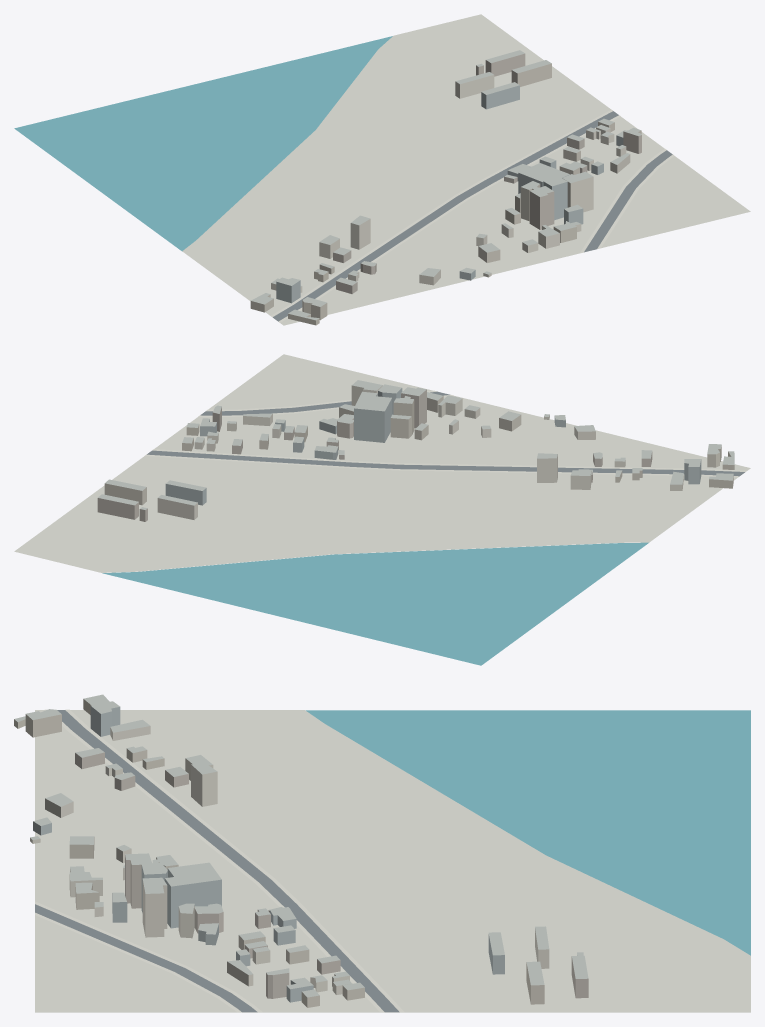
The picture shows the model from 3 angles, top to bottom: view 1: azimuth 30°, elevation 25°; view 2: azimuth 150°, elevation 25°; view 3: azimuth 270°, elevation 25°; orthographic projection. The views are drawn at different scales.
Visible parts, largest first — view 1: city; view 2: city; view 3: city.
Part boxes in pixels (x1=…): city: x1=14, y1=14, x2=750, y2=325; city: x1=14, y1=354, x2=750, y2=665; city: x1=14, y1=694, x2=750, y2=1012.
Bounding box in the file's own units: 508 × 35.58 × 515.
